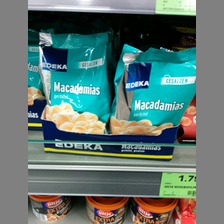nuts: (110, 44, 196, 136), (38, 28, 112, 134)
